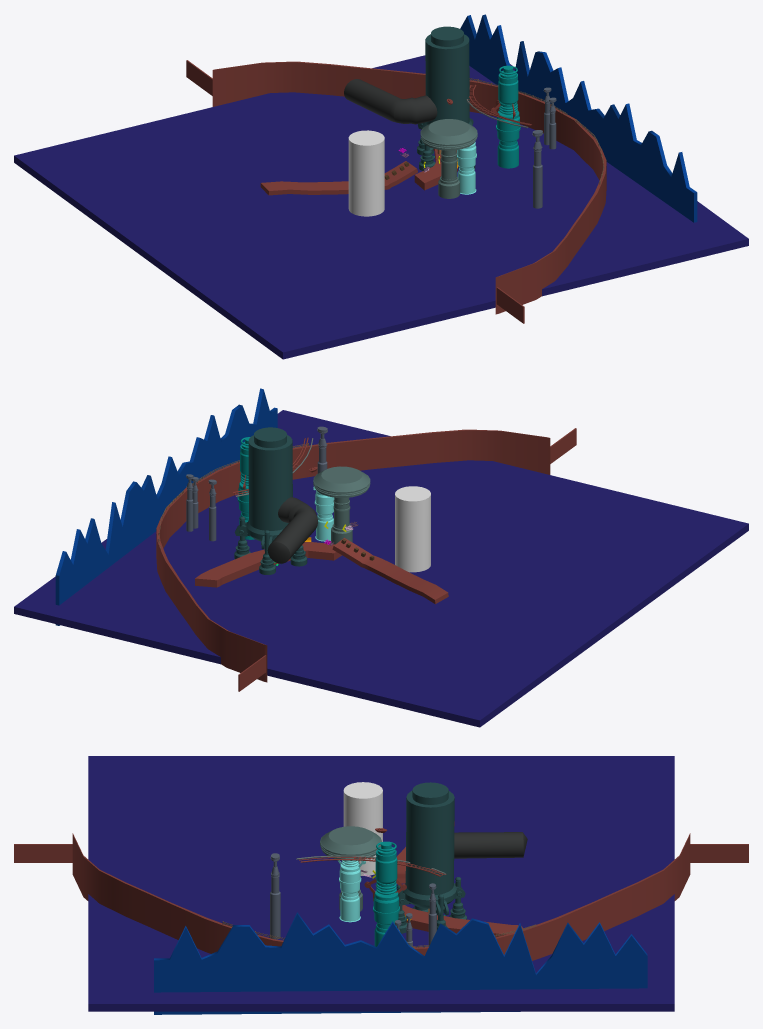
Rendered from Ratchet to unity.fbx.
3 renders of one model, top to bottom at view 1: azimuth 30°, elevation 25°; view 2: azimuth 150°, elevation 25°; view 3: azimuth 270°, elevation 25°, orthographic. The views are drawn at different scales.
Visible parts, largest first — view 1: pCube23, pCube24, mountain:pCube1, group28_pasted__pCube3, pCylinder35, pCylinder32, pCylinder36, pasted__polySurface2, pCube26, polySurface53, pCylinder33, pCube25; view 2: pCube23, pCube24, mountain:pCube1, group28_pasted__pCube3, pCylinder35, pCylinder32, pCube26, pCylinder36, pCube25, polySurface53, pasted__polySurface2; view 3: pCube23, mountain:pCube1, pCube24, group28_pasted__pCube3, pasted__polySurface2, pCylinder35, pCylinder36, pCylinder32, polySurface53, pCube25, pCylinder33.
Part boxes in pixels (<box>): pCube23: <box>14,55,748,359</box>; pCube24: <box>186,60,606,323</box>; mountain:pCube1: <box>460,14,697,222</box>; group28_pasted__pCube3: <box>417,26,475,170</box>; pCylinder35: <box>348,130,384,216</box>; pCylinder32: <box>420,119,477,198</box>; pCylinder36: <box>344,79,437,124</box>; pasted__polySurface2: <box>496,65,520,168</box>; pCube26: <box>260,161,417,195</box>; polySurface53: <box>457,142,476,194</box>; pCylinder33: <box>532,130,543,208</box>; pCube25: <box>414,148,457,190</box>; pCube23: <box>14,410,748,727</box>; pCube24: <box>156,428,576,691</box>; mountain:pCube1: <box>55,388,277,625</box>; group28_pasted__pCube3: <box>234,427,307,574</box>; pCylinder35: <box>395,486,430,572</box>; pCylinder32: <box>313,466,370,544</box>; pCube26: <box>332,538,448,604</box>; pCylinder36: <box>267,497,317,563</box>; pCube25: <box>195,542,341,587</box>; polySurface53: <box>314,491,334,541</box>; pasted__polySurface2: <box>237,437,254,539</box>; pCube23: <box>88,756,674,1011</box>; mountain:pCube1: <box>154,912,647,1014</box>; pCube24: <box>14,833,748,960</box>; group28_pasted__pCube3: <box>396,782,466,933</box>; pasted__polySurface2: <box>373,841,399,946</box>; pCylinder35: <box>343,782,382,875</box>; pCylinder36: <box>454,832,527,858</box>; pCylinder32: <box>320,826,381,911</box>; polySurface53: <box>339,861,361,922</box>; pCube25: <box>373,894,523,937</box>; pCylinder33: <box>270,853,280,939</box>.
Size of what is drawn, in the model's own units: 9052 by 2905 by 11343.
